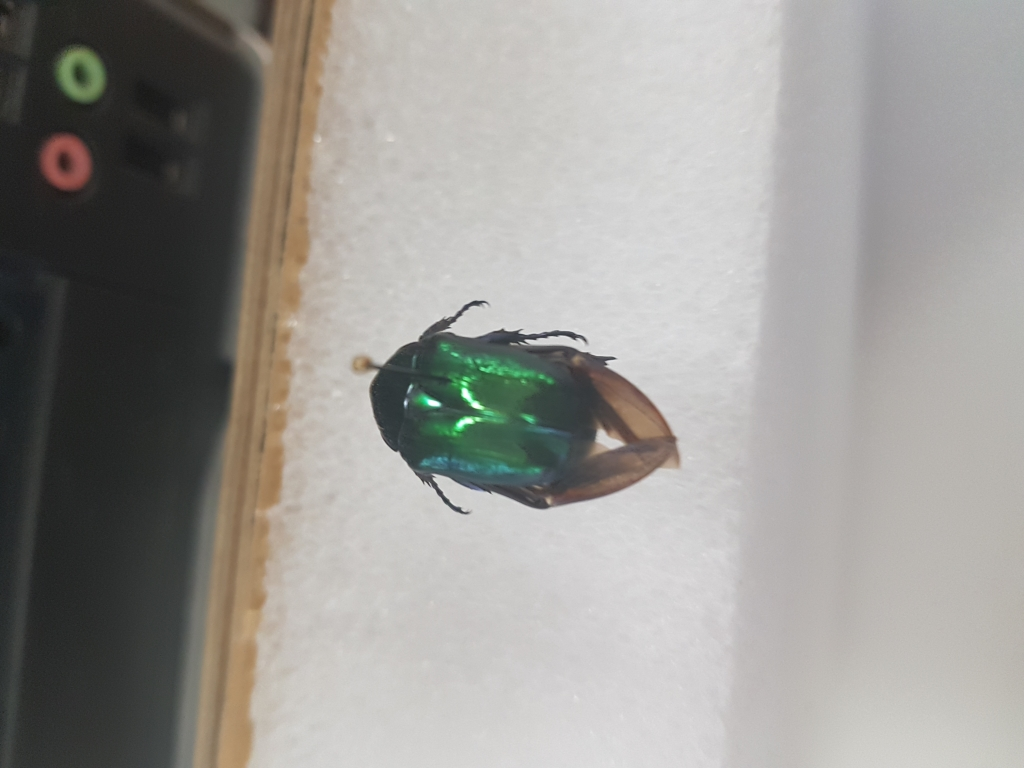Protaetia_angustata_angustata: (360, 294, 687, 519)
